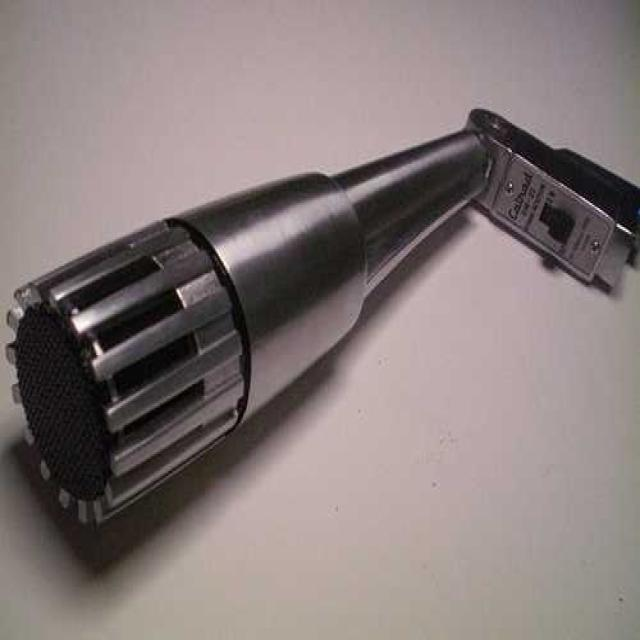microphone: (4, 118, 470, 515)
